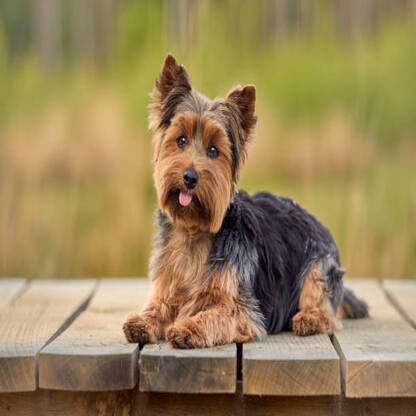yorkshire: (120, 51, 374, 352)
